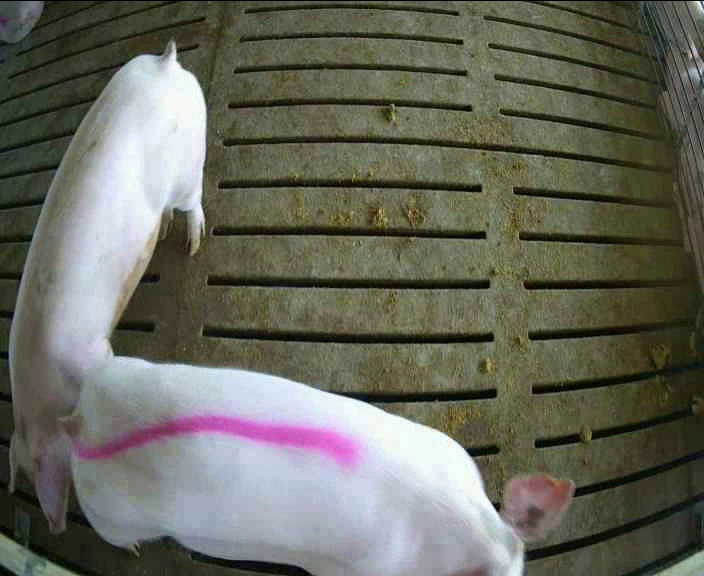pig: (58, 357, 572, 573), (9, 41, 205, 532)
